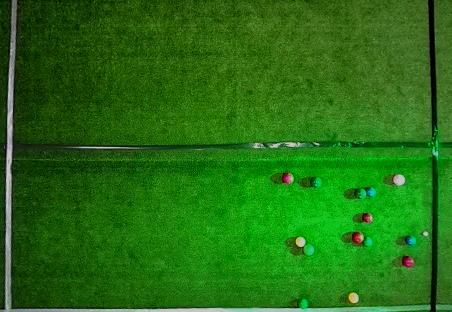blue: (405, 235, 416, 245), (366, 187, 376, 196)
green: (303, 244, 314, 255), (355, 188, 367, 198), (311, 177, 321, 187), (362, 237, 372, 246), (298, 299, 308, 308)
red: (352, 233, 364, 243), (393, 175, 405, 185), (402, 256, 413, 266), (283, 173, 293, 183), (363, 213, 373, 222)
vline: (427, 0, 451, 311), (0, 0, 21, 311)
white: (423, 231, 428, 236)
yellow: (295, 237, 306, 247), (349, 293, 359, 303)
